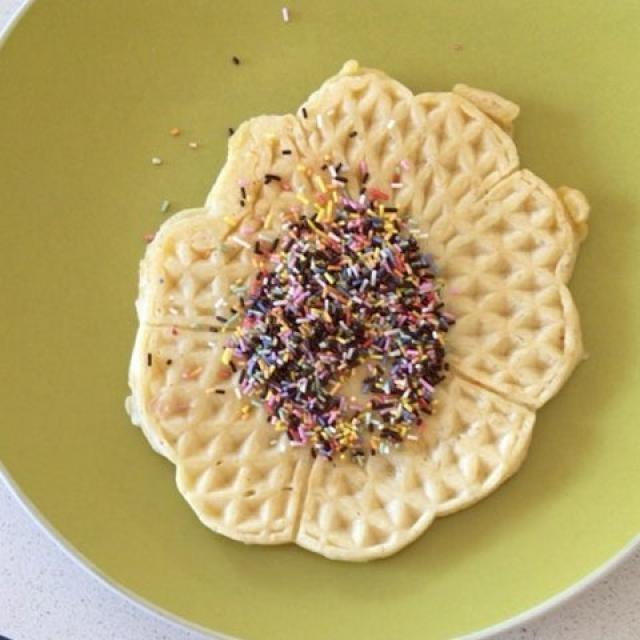chocolate: (233, 179, 433, 467)
waffle: (126, 70, 585, 554)
